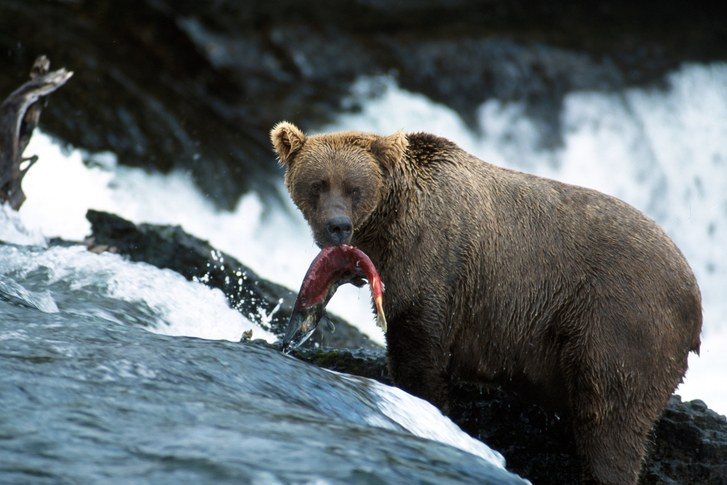bear: (266, 115, 409, 250)
